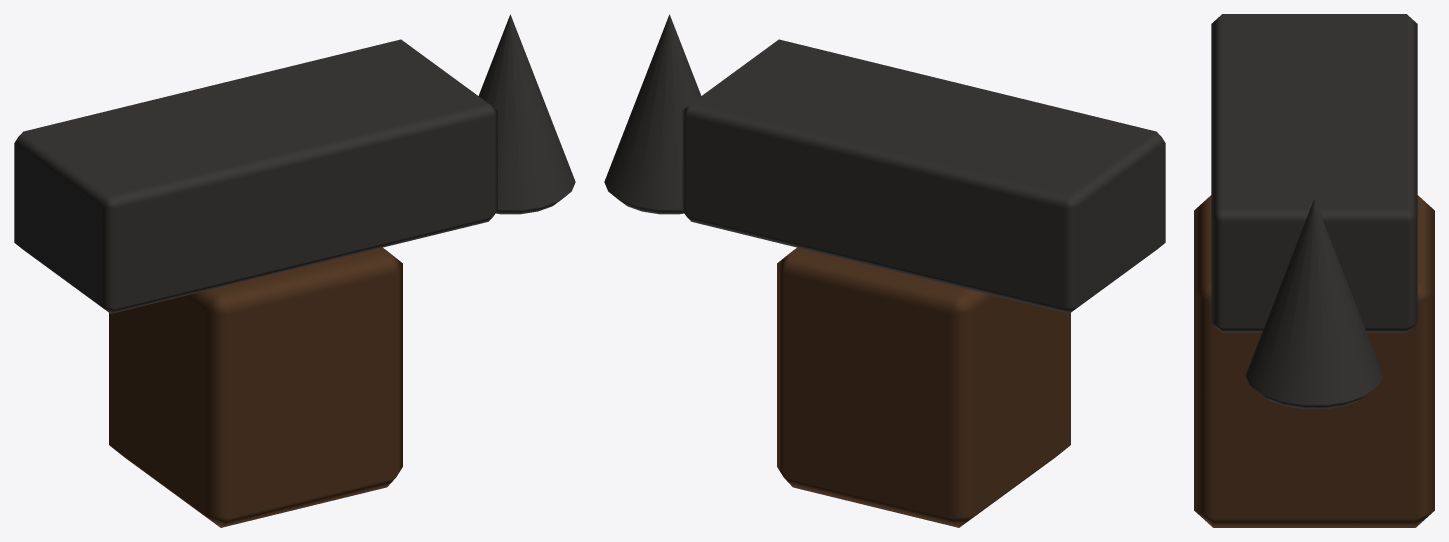
The model's file is anvil.7d07e2fa.glb.
The picture shows the model from 3 angles, left to right: view 1: azimuth 30°, elevation 25°; view 2: azimuth 150°, elevation 25°; view 3: azimuth 270°, elevation 25°; orthographic projection. The views are drawn at different scales.
Parts seen in each view (by area): view 1: body; view 2: body; view 3: body.
Boxes of the visible parts, box(x1,y1,x2,y2) form: body: box(14, 14, 575, 527); body: box(604, 14, 1165, 527); body: box(1194, 14, 1434, 527).
Bounding box in the file's own units: 0.8985 × 0.67 × 0.35.
